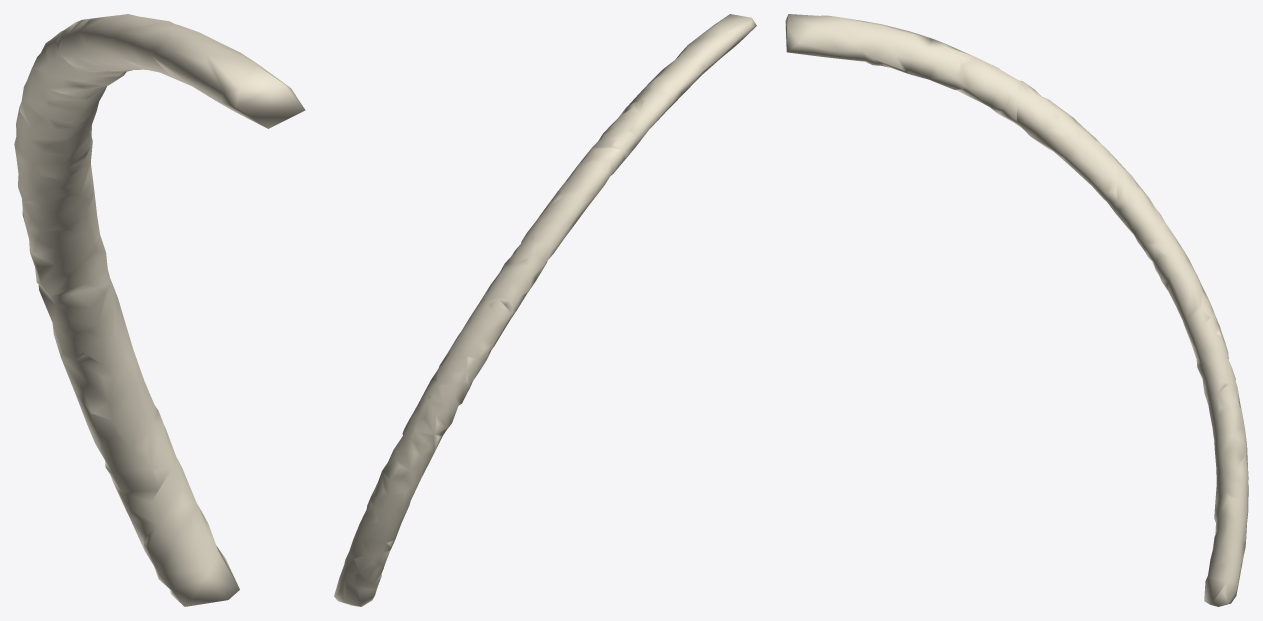
The model's file is rib_14_r.glb.
The picture shows the model from 3 angles, left to right: view 1: azimuth 30°, elevation 25°; view 2: azimuth 150°, elevation 25°; view 3: azimuth 270°, elevation 25°; orthographic projection. The views are drawn at different scales.
Visible parts, largest first — view 1: geometry_0; view 2: geometry_0; view 3: geometry_0.
Boxes of the visible parts, box(x1,y1,x2,y2) form: geometry_0: box(14, 14, 305, 606); geometry_0: box(334, 14, 756, 606); geometry_0: box(785, 14, 1248, 606).
Size of the model in its own units: 0.1968 by 0.4237 by 0.3627.
